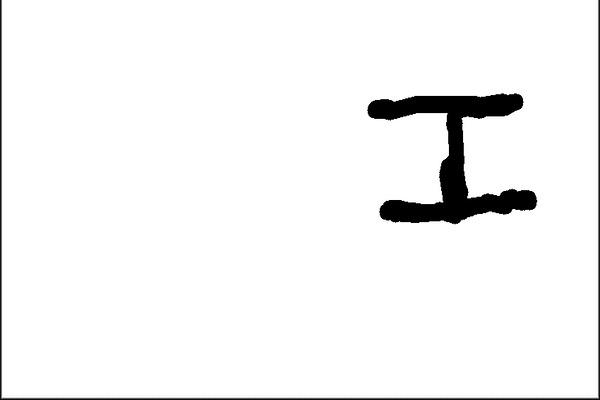i: (354, 76, 546, 235)
